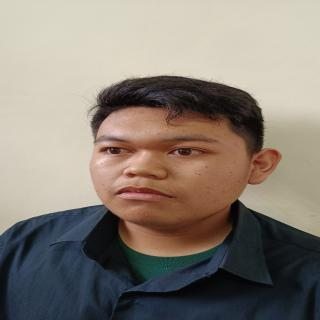Marah: (85, 100, 250, 226)
